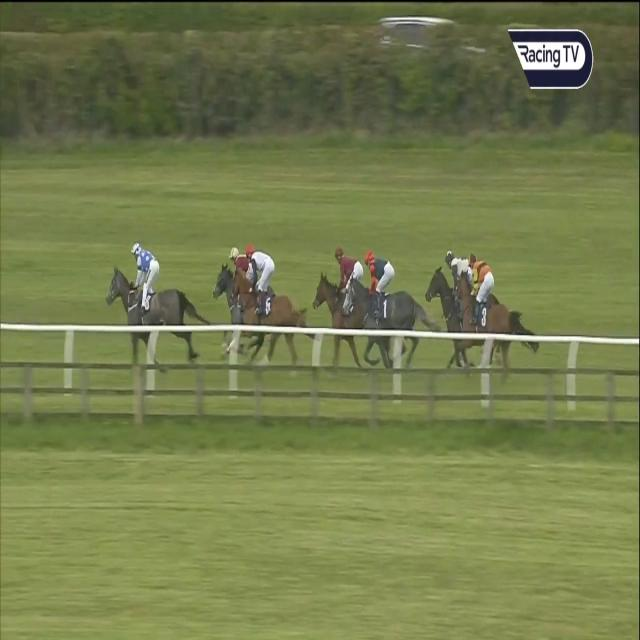horses-racing: (106, 241, 198, 366), (450, 250, 536, 376), (342, 250, 431, 368), (233, 241, 310, 368), (309, 242, 366, 362), (209, 238, 247, 363), (421, 248, 471, 334)
